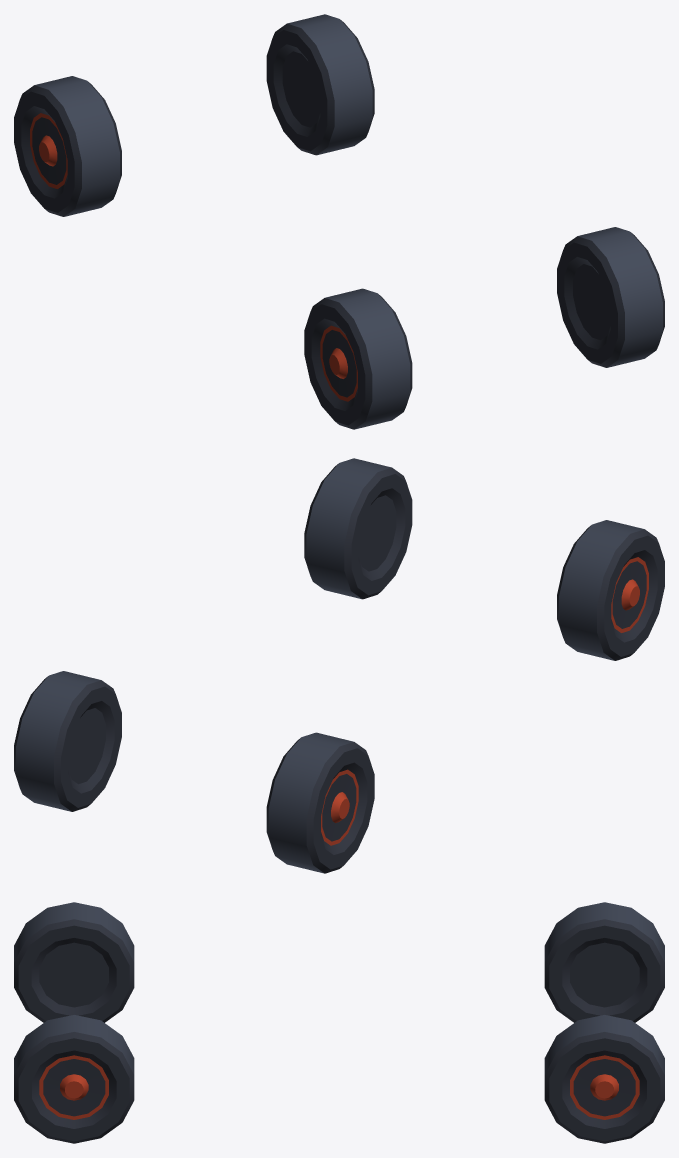
File: WheelsOrnate.fbx
3 renders of one model, top to bottom at view 1: azimuth 30°, elevation 25°; view 2: azimuth 150°, elevation 25°; view 3: azimuth 270°, elevation 25°, orthographic. The views are drawn at different scales.
Parts seen in each view (by area): view 1: TiresOrnateFrontRight, TiresOrnateRearLeft, TiresOrnateFrontLeft, TiresOrnateRearRight; view 2: TiresOrnateFrontLeft, TiresOrnateRearRight, TiresOrnateFrontRight, TiresOrnateRearLeft; view 3: TiresOrnateFrontLeft, TiresOrnateRearLeft, TiresOrnateFrontRight, TiresOrnateRearRight.
Boxes of the visible parts, box(x1,y1,x2,y2) form: TiresOrnateFrontRight: box(304, 288, 412, 429); TiresOrnateRearLeft: box(266, 14, 374, 155); TiresOrnateFrontLeft: box(557, 227, 664, 367); TiresOrnateRearRight: box(14, 76, 121, 216); TiresOrnateFrontLeft: box(304, 458, 412, 599); TiresOrnateRearRight: box(266, 732, 374, 873); TiresOrnateFrontRight: box(557, 520, 664, 660); TiresOrnateRearLeft: box(14, 671, 121, 811); TiresOrnateFrontLeft: box(14, 1015, 134, 1143); TiresOrnateRearLeft: box(544, 1015, 664, 1143); TiresOrnateFrontRight: box(14, 902, 134, 1022); TiresOrnateRearRight: box(544, 902, 664, 1022).
Bounding box in the file's own units: 135 × 52.81 × 278.
